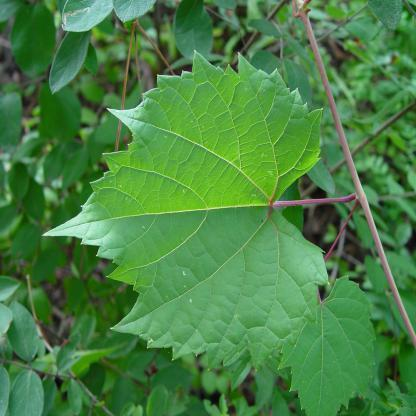grape leaf black rot: (32, 60, 328, 370), (268, 274, 378, 416)
